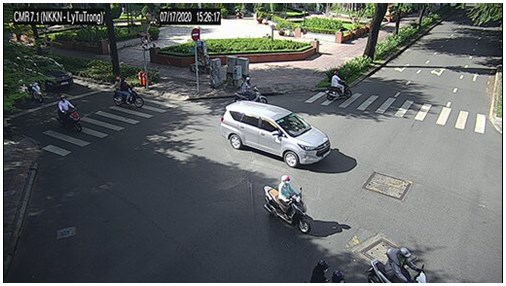xe_hoi: (221, 101, 331, 168), (31, 55, 74, 88)
xe_may: (265, 175, 312, 235), (368, 248, 426, 283), (57, 94, 84, 132), (114, 77, 144, 108), (325, 70, 352, 101), (235, 76, 266, 103), (310, 260, 346, 282), (27, 81, 44, 102), (16, 83, 32, 105)
